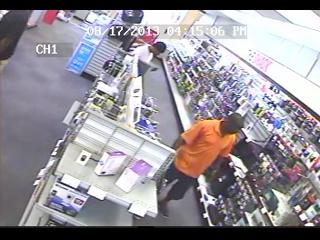Normal: (138, 112, 248, 228), (105, 42, 167, 104), (0, 10, 32, 61)
